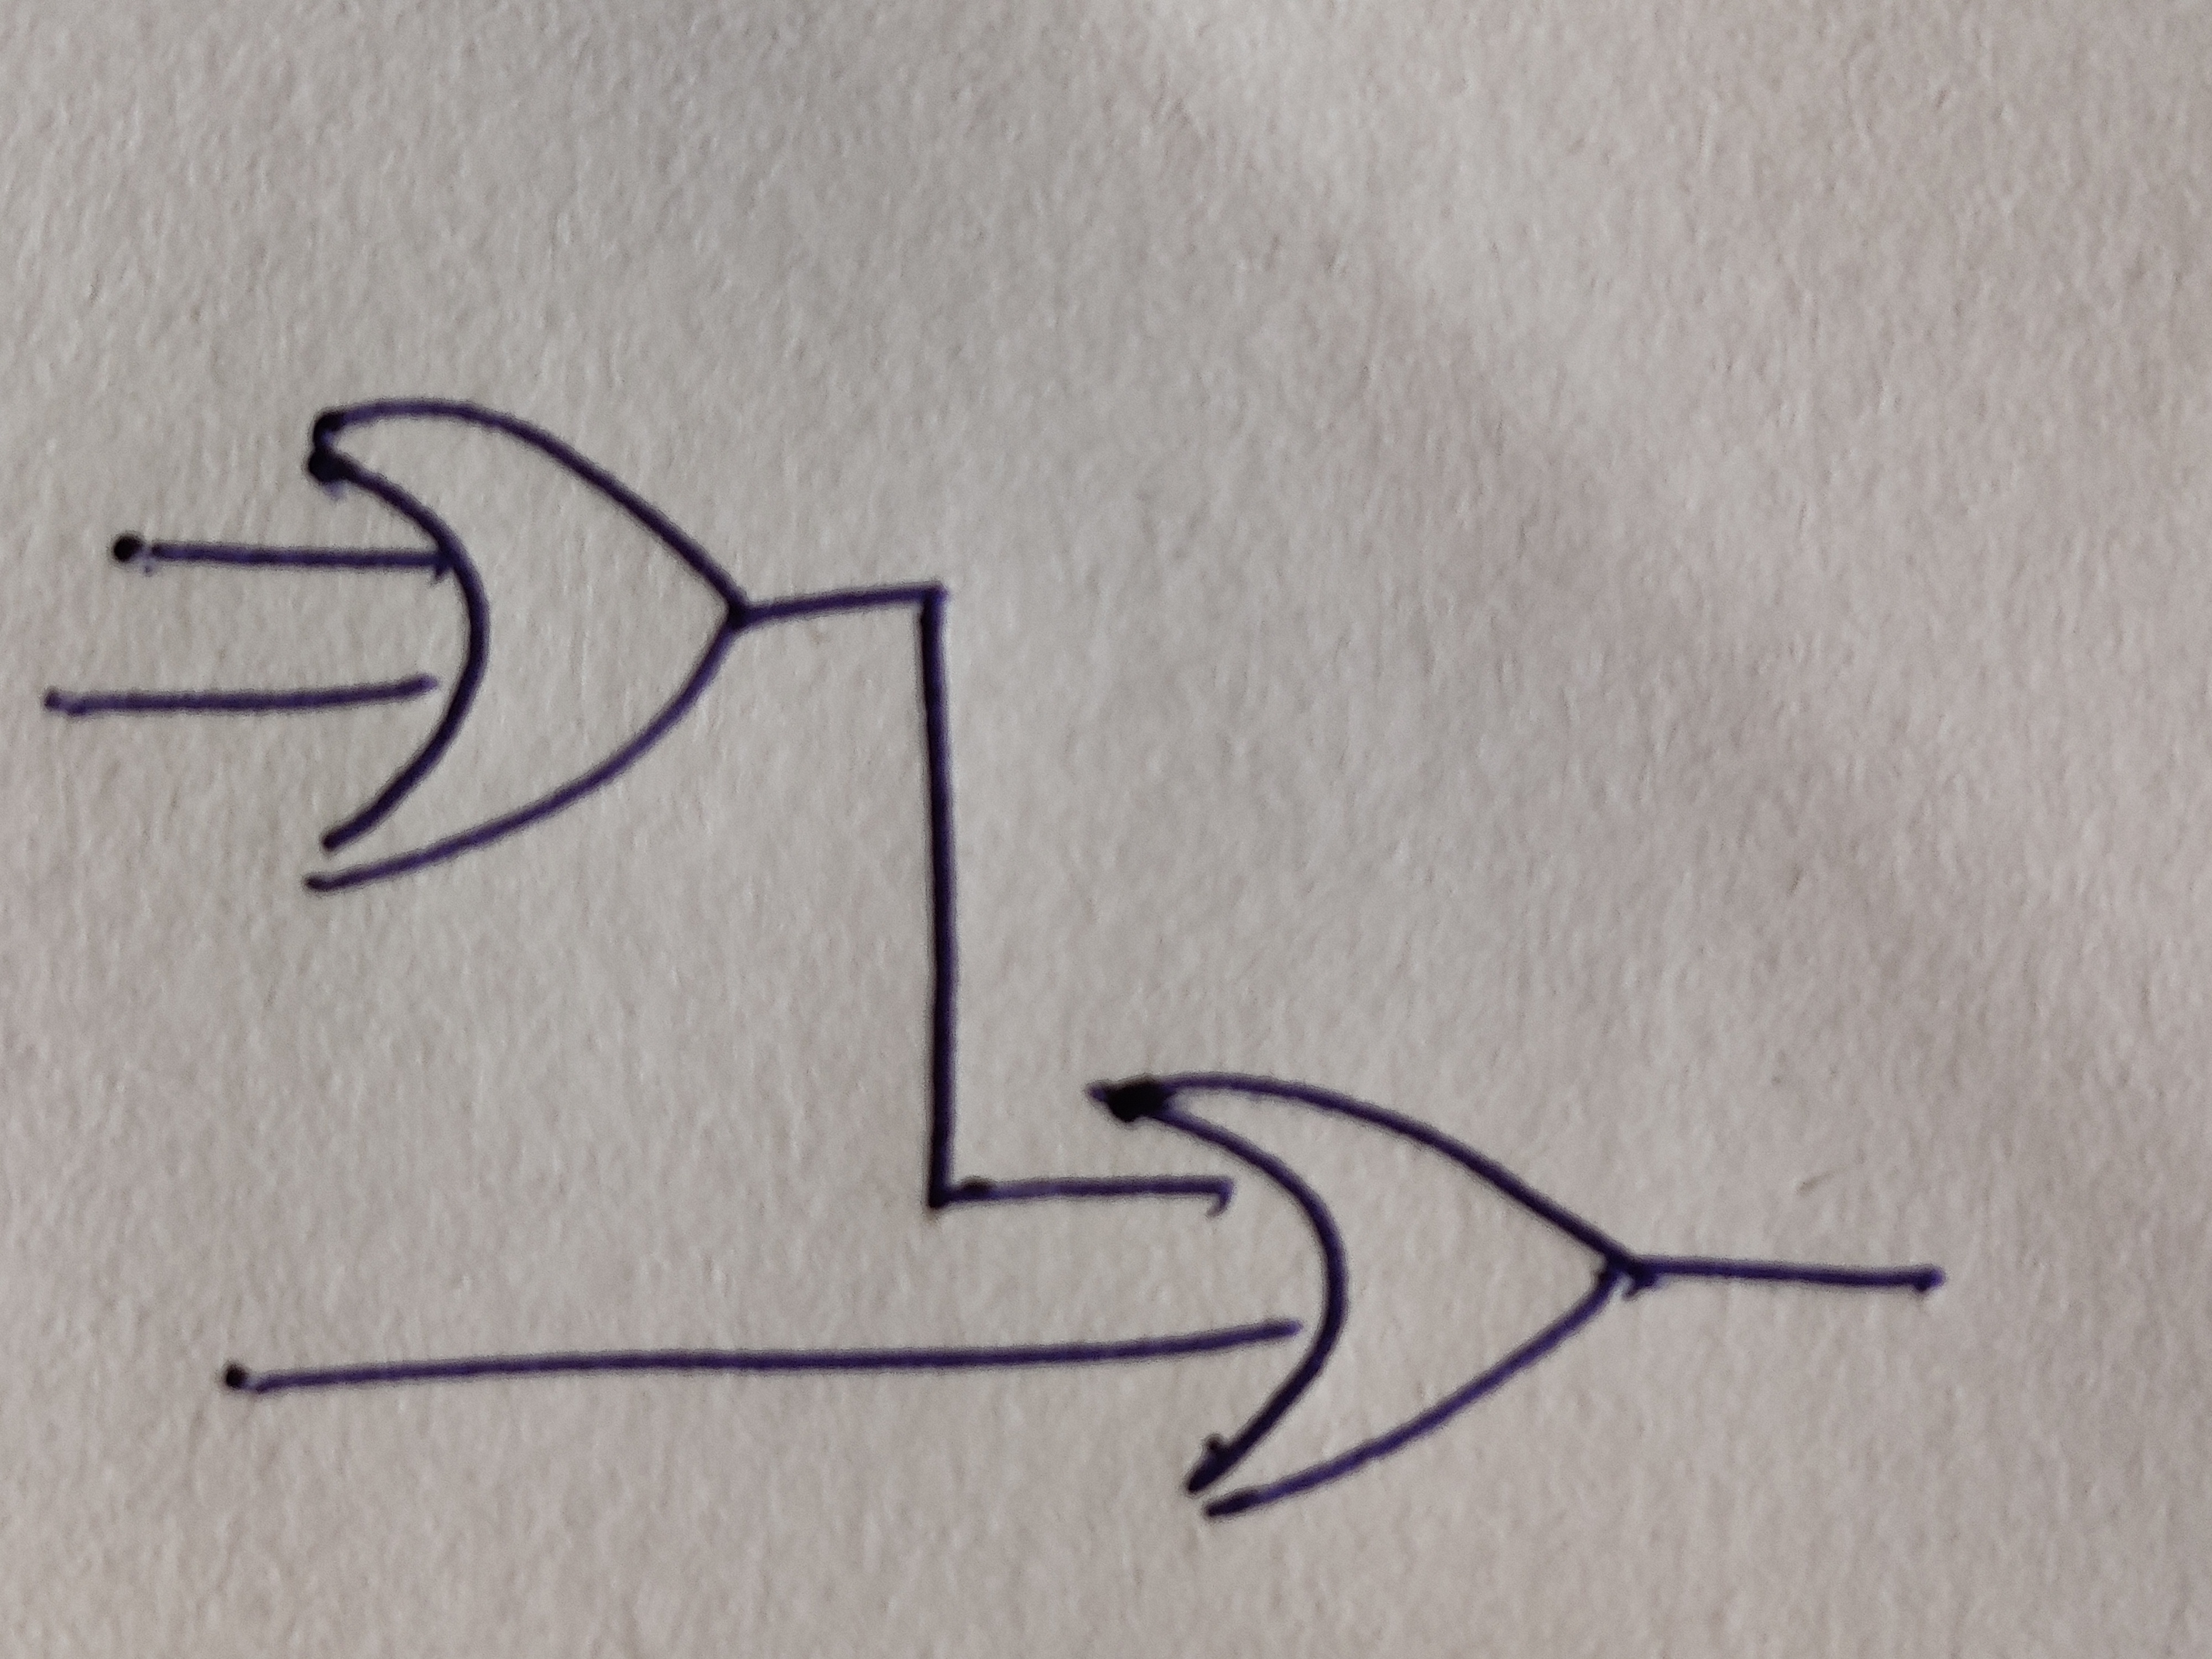or: (1089, 1073, 1655, 1518), (307, 397, 752, 892)
